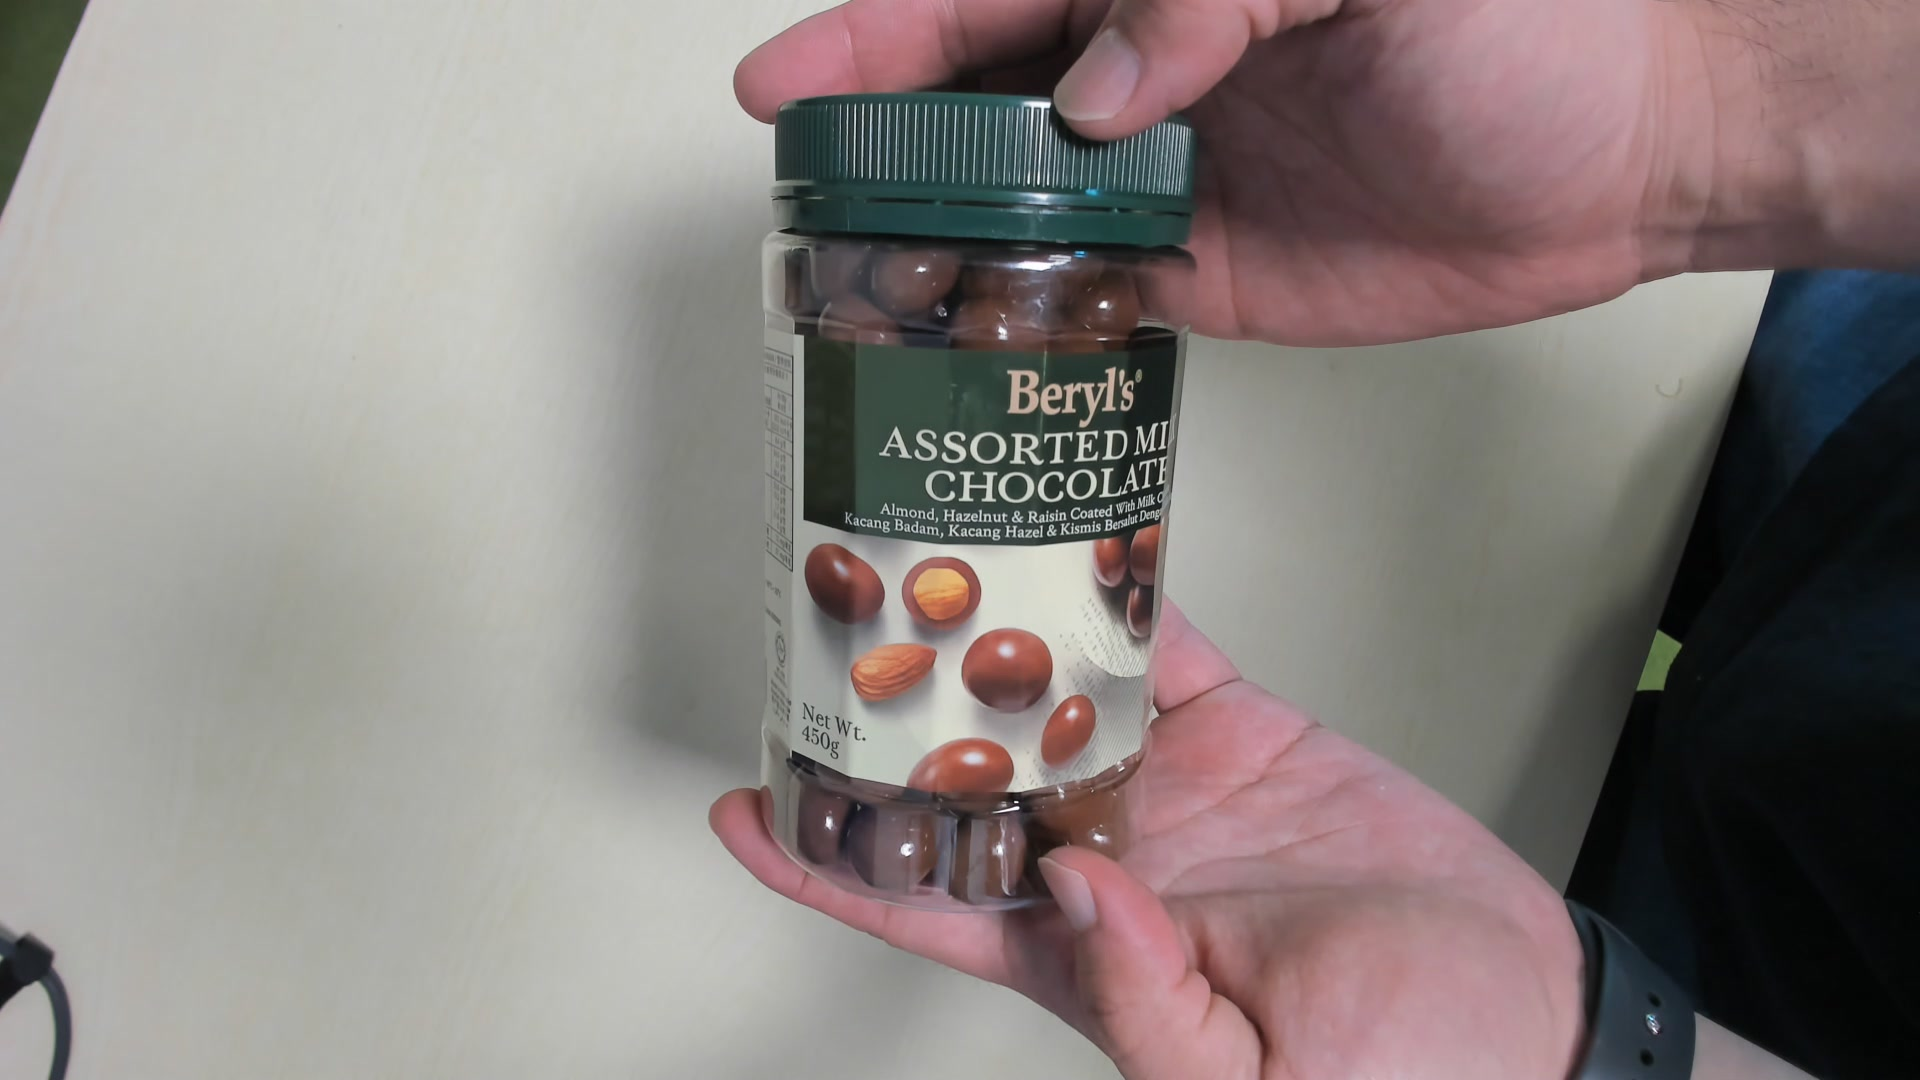SweetsChocolatesOthers_400-499g_Halal_Nonhealthy: (746, 86, 1208, 894)
